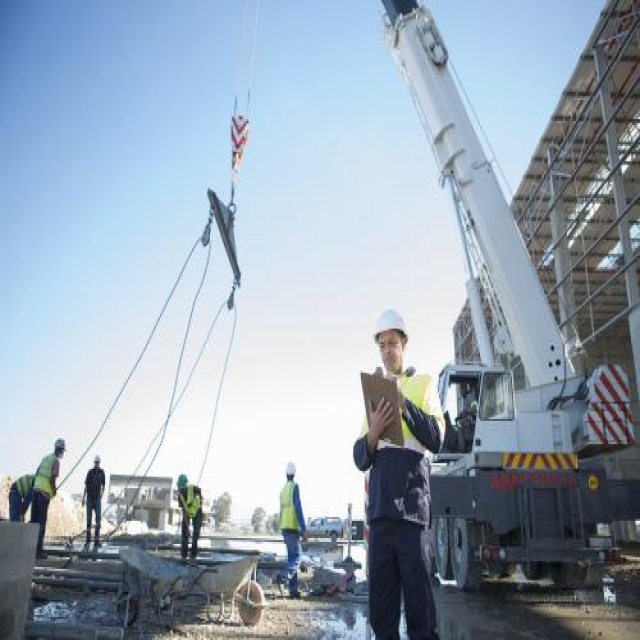Helmet: (368, 296, 415, 385)
Reflective vest: (397, 372, 448, 523), (35, 453, 64, 510), (279, 480, 305, 541), (178, 483, 204, 525), (11, 469, 34, 501)
